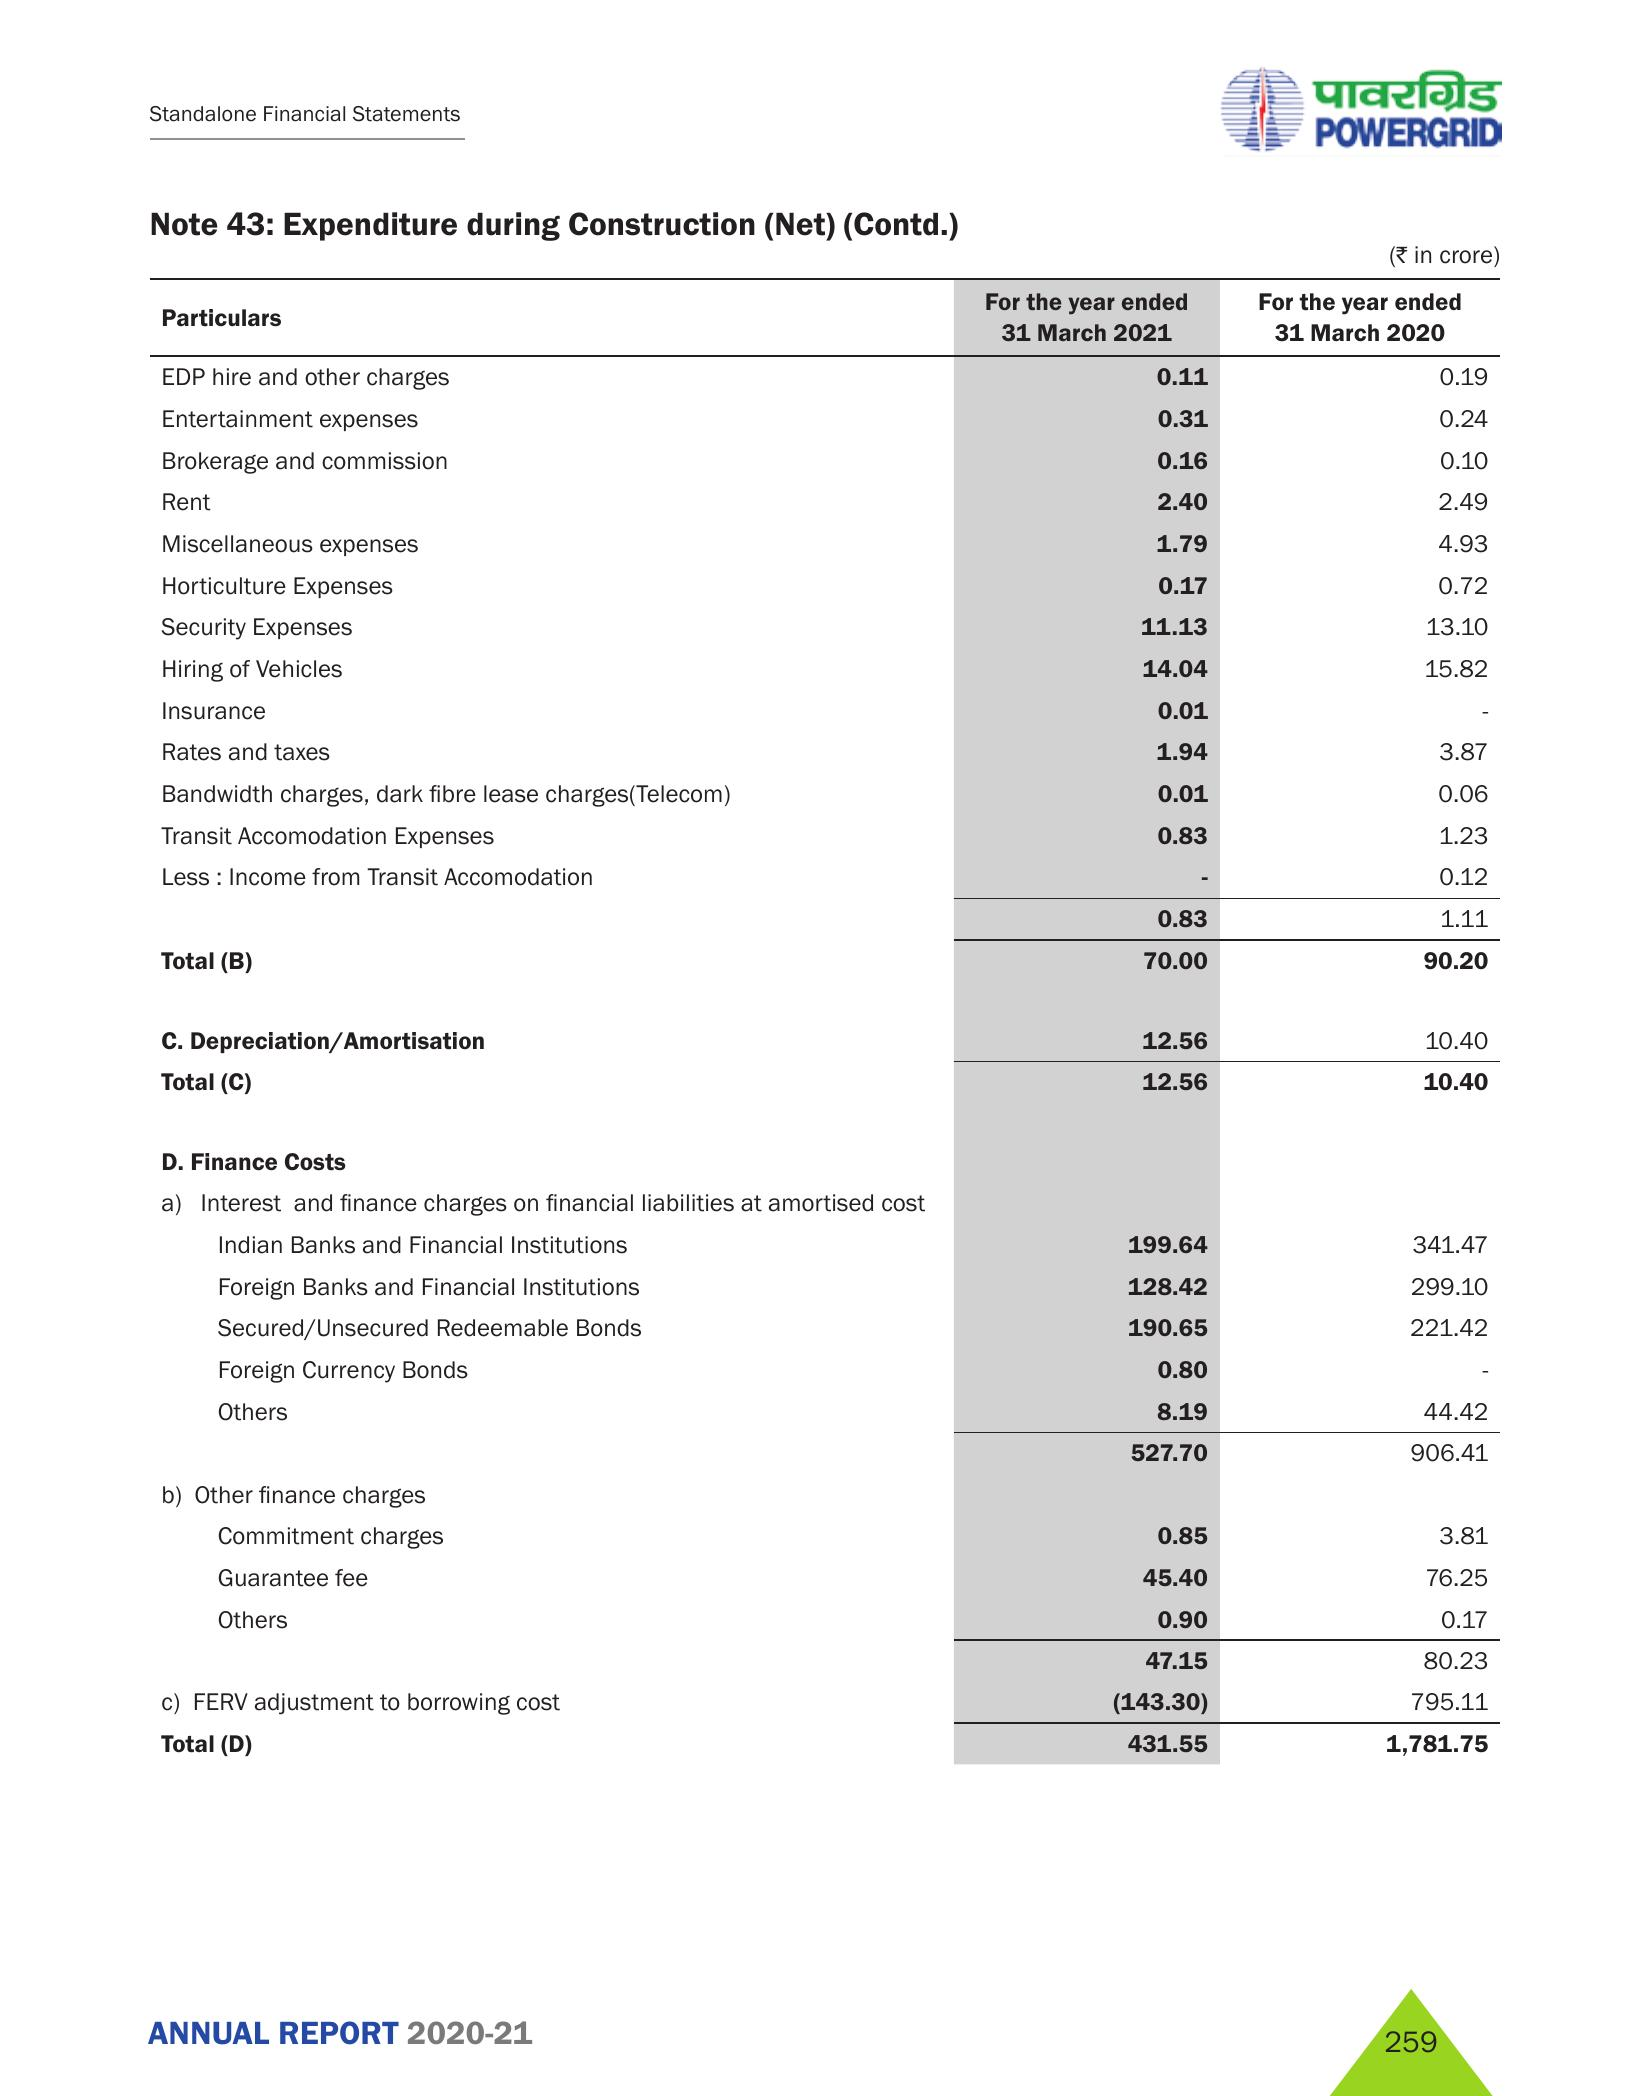Footer: (0, 1956, 1650, 2096)
Header: (0, 0, 1650, 172)
Table: (94, 274, 1511, 1769)
